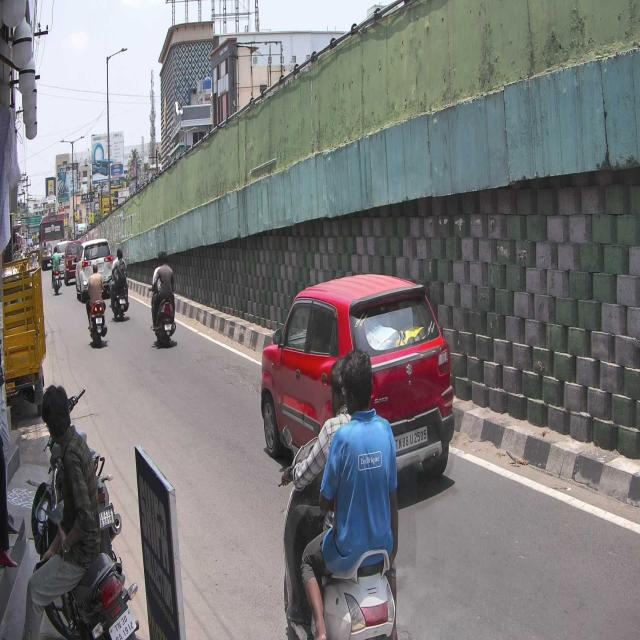double_rider: (277, 344, 404, 640)
